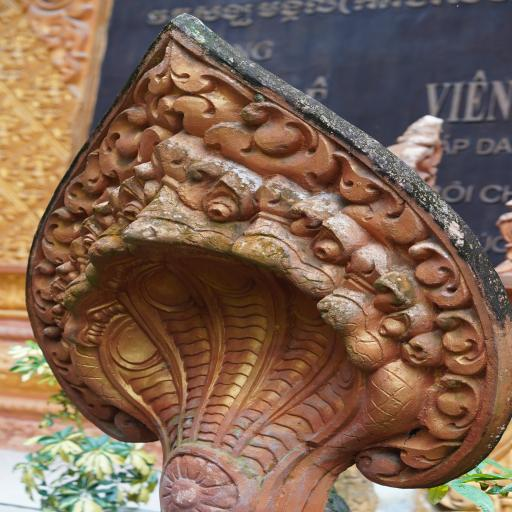ran: (2, 11, 512, 512)
